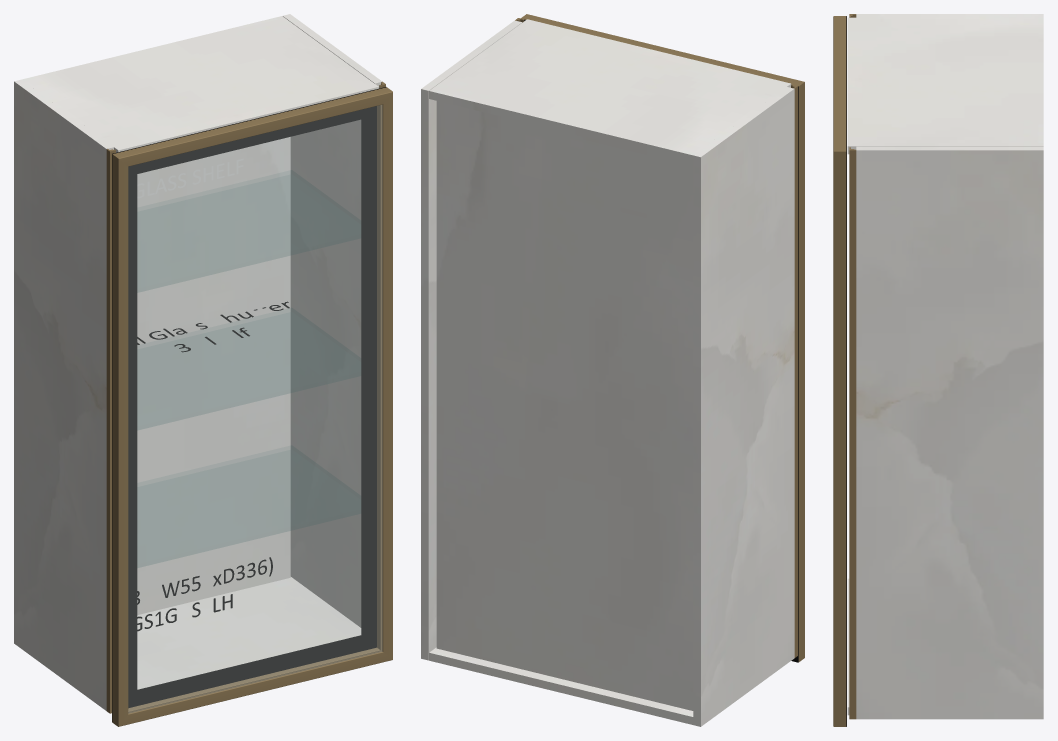
The model's file is WC-SH-NHX-GL-3SG-LHS-XXX-550-1085-336-15.glb.
The picture shows the model from 3 angles, left to right: view 1: azimuth 30°, elevation 25°; view 2: azimuth 150°, elevation 25°; view 3: azimuth 270°, elevation 25°; orthographic projection.
Parts seen in each view (by area): view 1: Object_node_10, TP_node_2, TP_node_0, TP_node_1, Neon 22 Profile ALU PROF NEON 20 L21XH22.5MM 3MTR S2/405 SEC (×4), TP, Object_node_12, TP_node, Object_node_14, 2D text_node, 2D text_node_1, 2D text; view 2: TP_node_2, TP_node_0, TP, TP_node_1, Neon 22 Profile ALU PROF NEON 20 L21XH22.5MM 3MTR S2/405 SEC (×2), TP_node, Object_node_14; view 3: TP_node_1, TP, Neon 22 Profile ALU PROF NEON 20 L21XH22.5MM 3MTR S2/405 SEC (×2), Object_node_20, TP_node_0, Object_node_12, TP_node.
Part boxes in pixels (bbox=[...]): Object_node_10: bbox=[128, 105, 382, 713]; TP_node_2: bbox=[137, 137, 290, 614]; TP_node_0: bbox=[14, 79, 113, 710]; TP_node_1: bbox=[283, 14, 381, 627]; Neon 22 Profile ALU PROF NEON 20 L21XH22.5MM 3MTR S2/405 SEC (×4): bbox=[112, 87, 392, 726]; TP: bbox=[22, 16, 378, 152]; Object_node_12: bbox=[112, 87, 386, 721]; TP_node: bbox=[137, 577, 361, 689]; Object_node_14: bbox=[106, 148, 115, 713]; 2D text_node: bbox=[137, 557, 272, 604]; 2D text_node_1: bbox=[137, 158, 243, 198]; 2D text: bbox=[137, 301, 289, 352]; TP_node_2: bbox=[436, 101, 693, 710]; TP_node_0: bbox=[693, 87, 794, 726]; TP: bbox=[429, 19, 791, 163]; TP_node_1: bbox=[421, 20, 522, 660]; Neon 22 Profile ALU PROF NEON 20 L21XH22.5MM 3MTR S2/405 SEC (×2): bbox=[521, 14, 804, 661]; TP_node: bbox=[429, 647, 693, 724]; Object_node_14: bbox=[791, 84, 797, 657]; TP_node_1: bbox=[856, 146, 1043, 719]; TP: bbox=[847, 17, 1043, 154]; Neon 22 Profile ALU PROF NEON 20 L21XH22.5MM 3MTR S2/405 SEC (×2): bbox=[833, 16, 846, 726]; Object_node_20: bbox=[849, 147, 856, 719]; TP_node_0: bbox=[856, 14, 1043, 17]; Object_node_12: bbox=[846, 16, 846, 726]; TP_node: bbox=[847, 578, 849, 715].
Size of what is drawn, in the model's own units: 0.55 by 1.09 by 0.358.
Materials: 7 (1 with a texture image).
